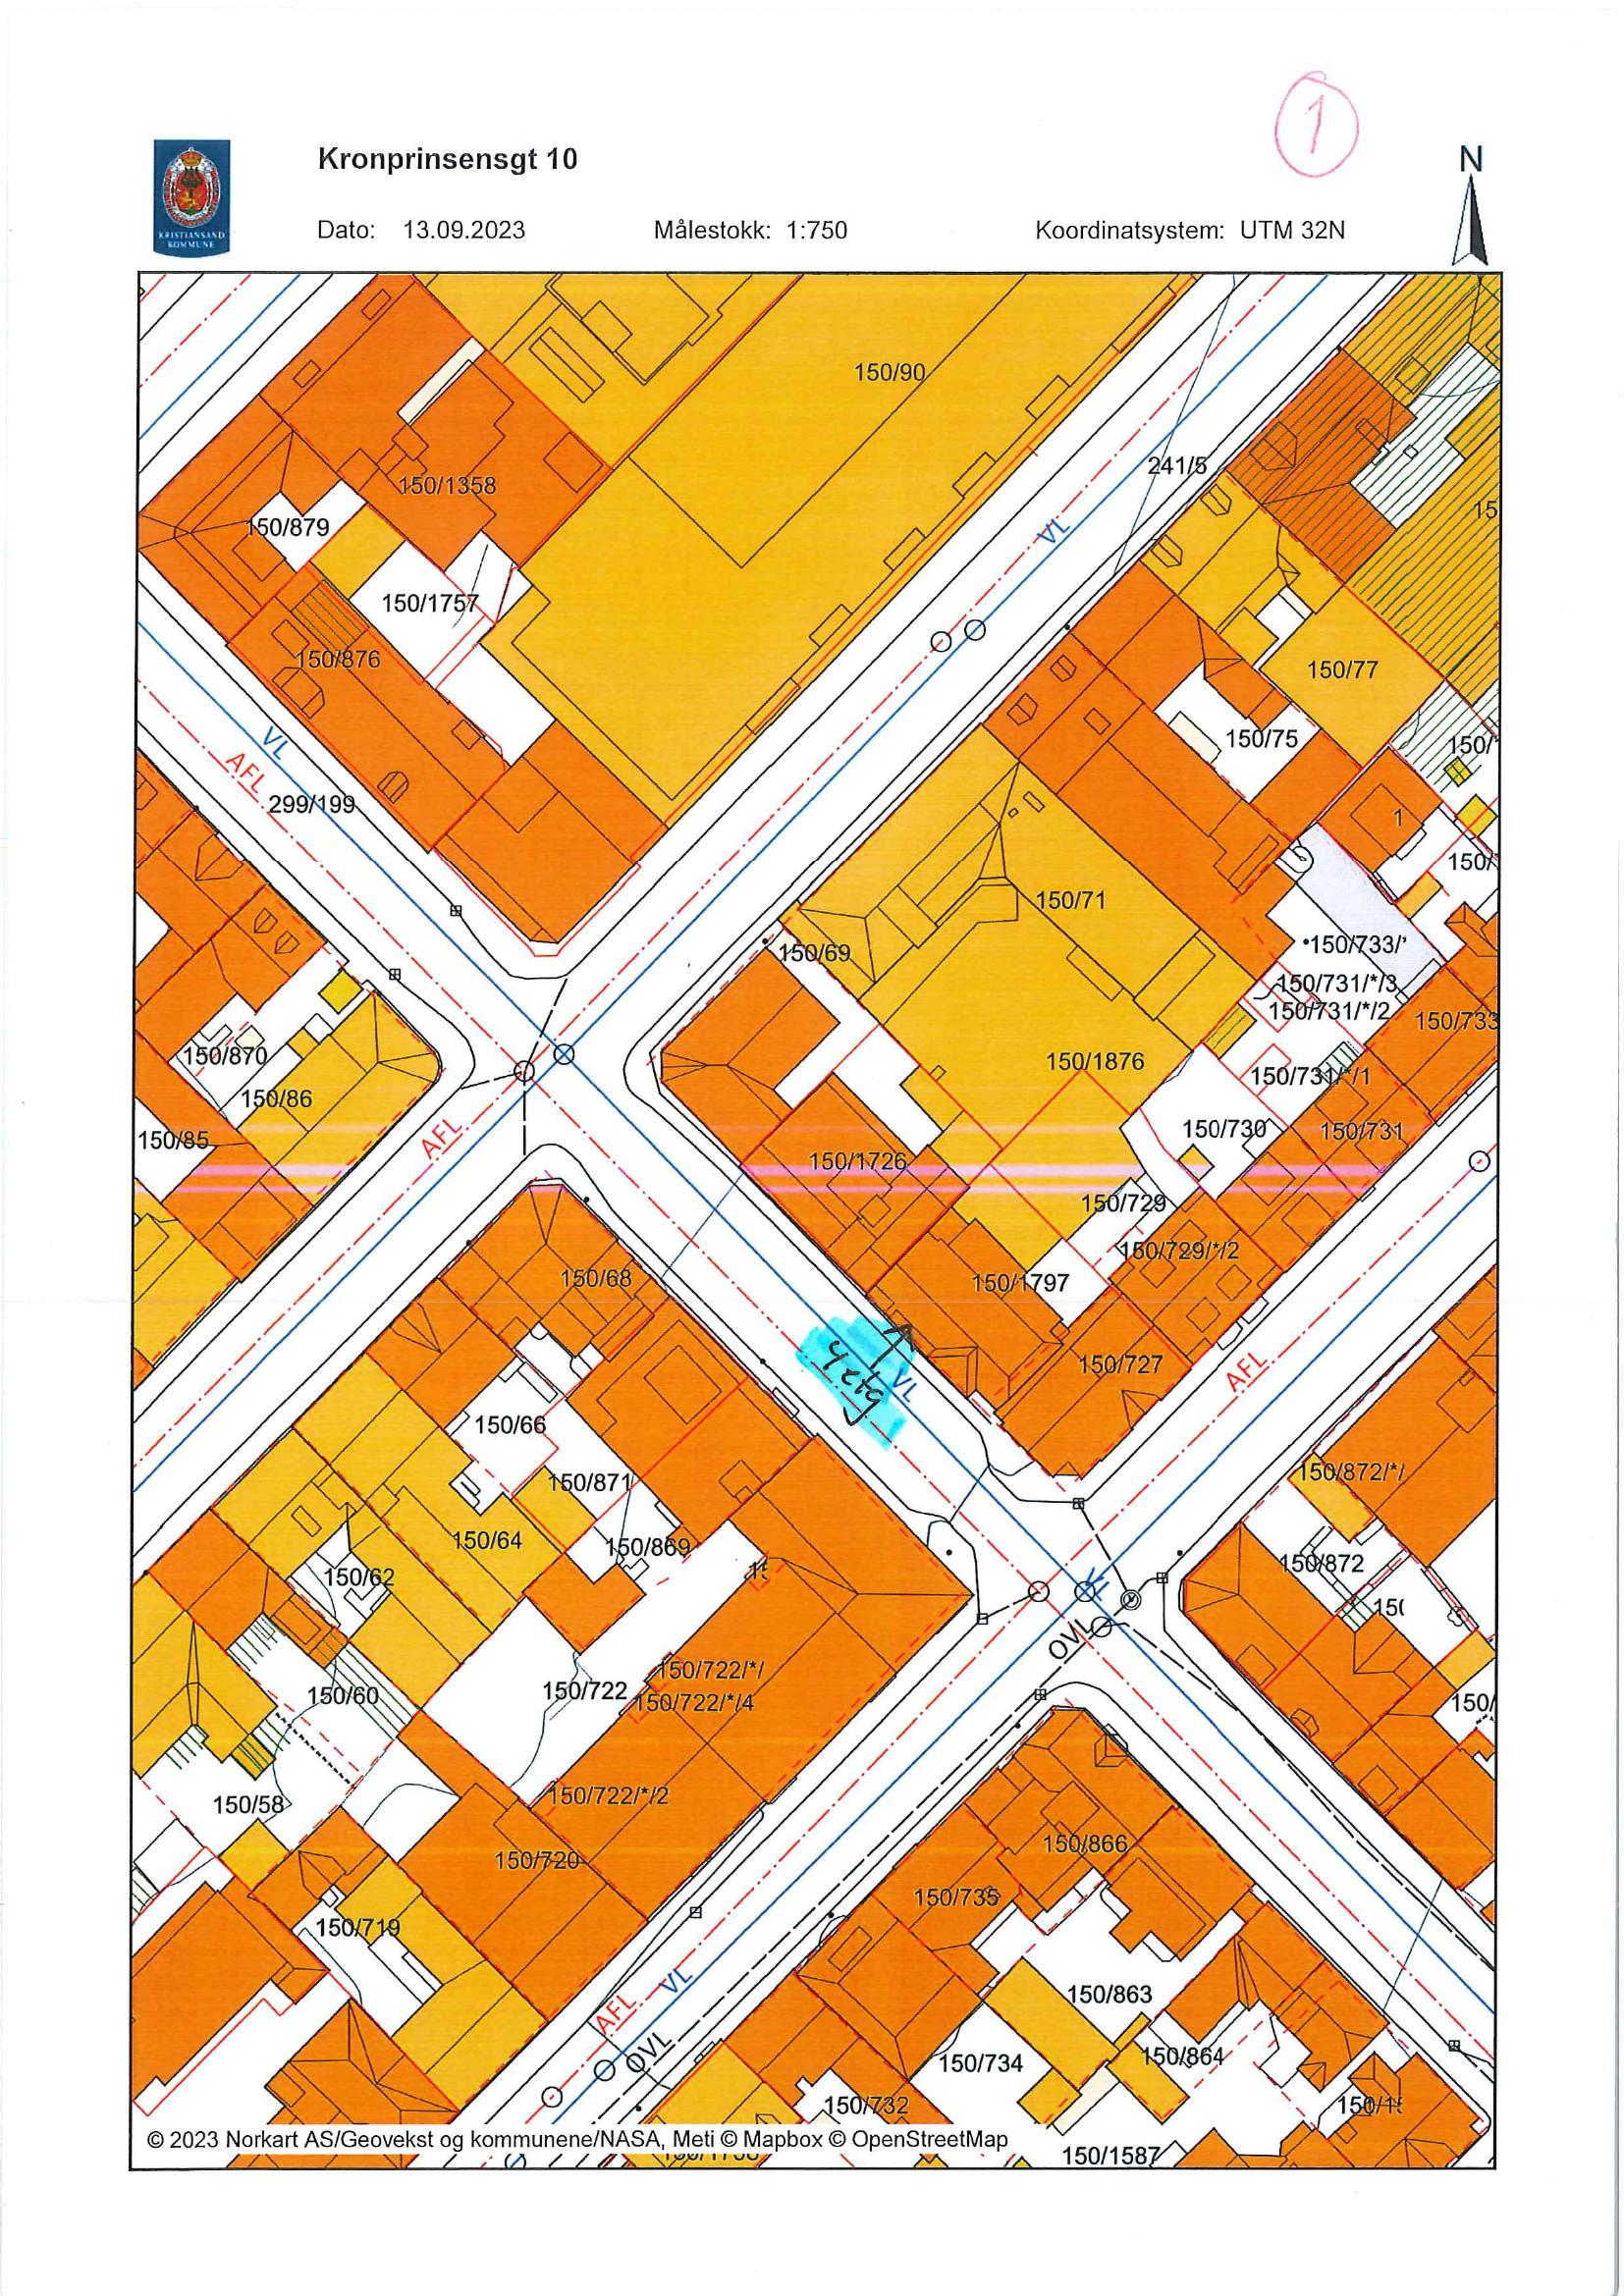situasjonskart: (135, 267, 1499, 2168)
